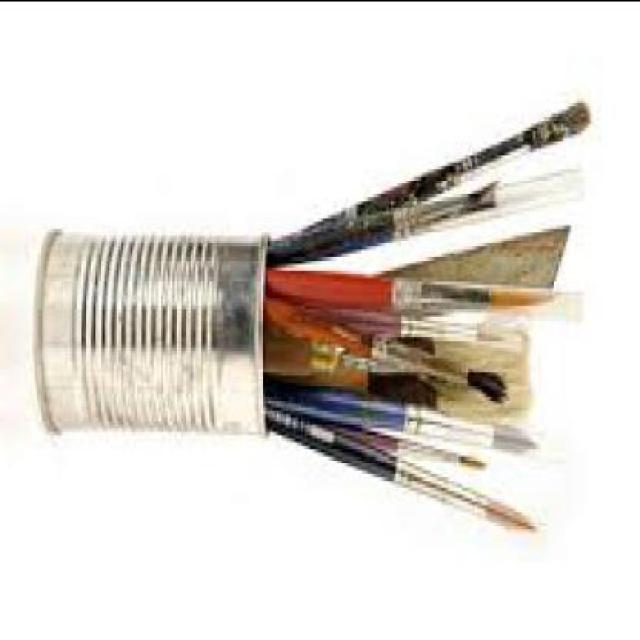METAL: (39, 228, 273, 434), (396, 182, 498, 235), (398, 458, 488, 507), (405, 394, 500, 440), (395, 276, 491, 304)
